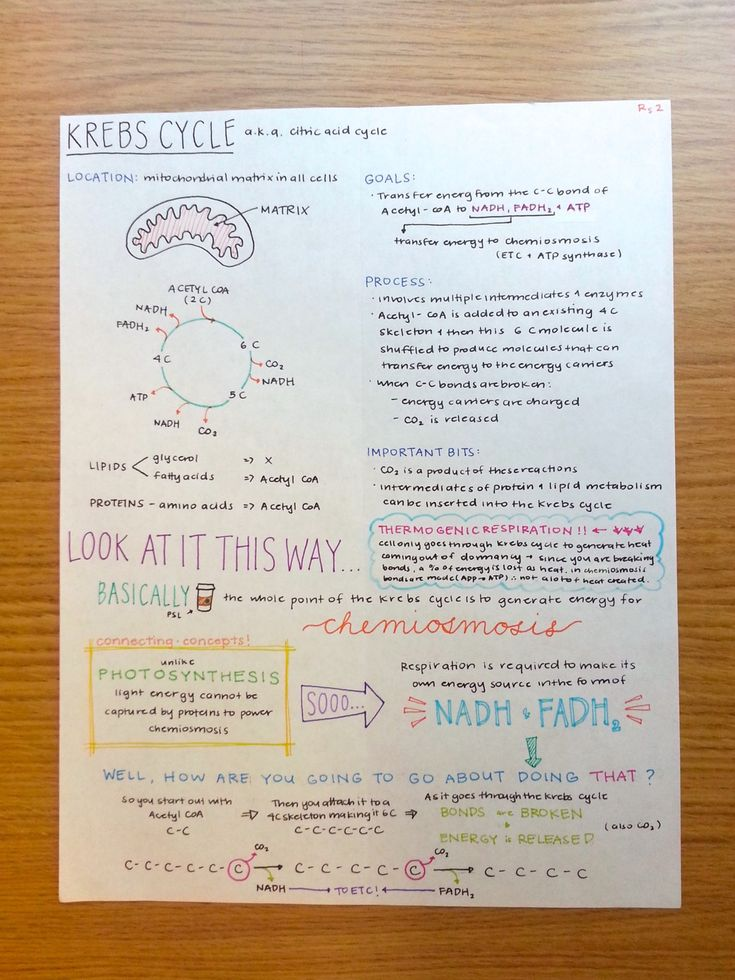page: (61, 105, 669, 901)
